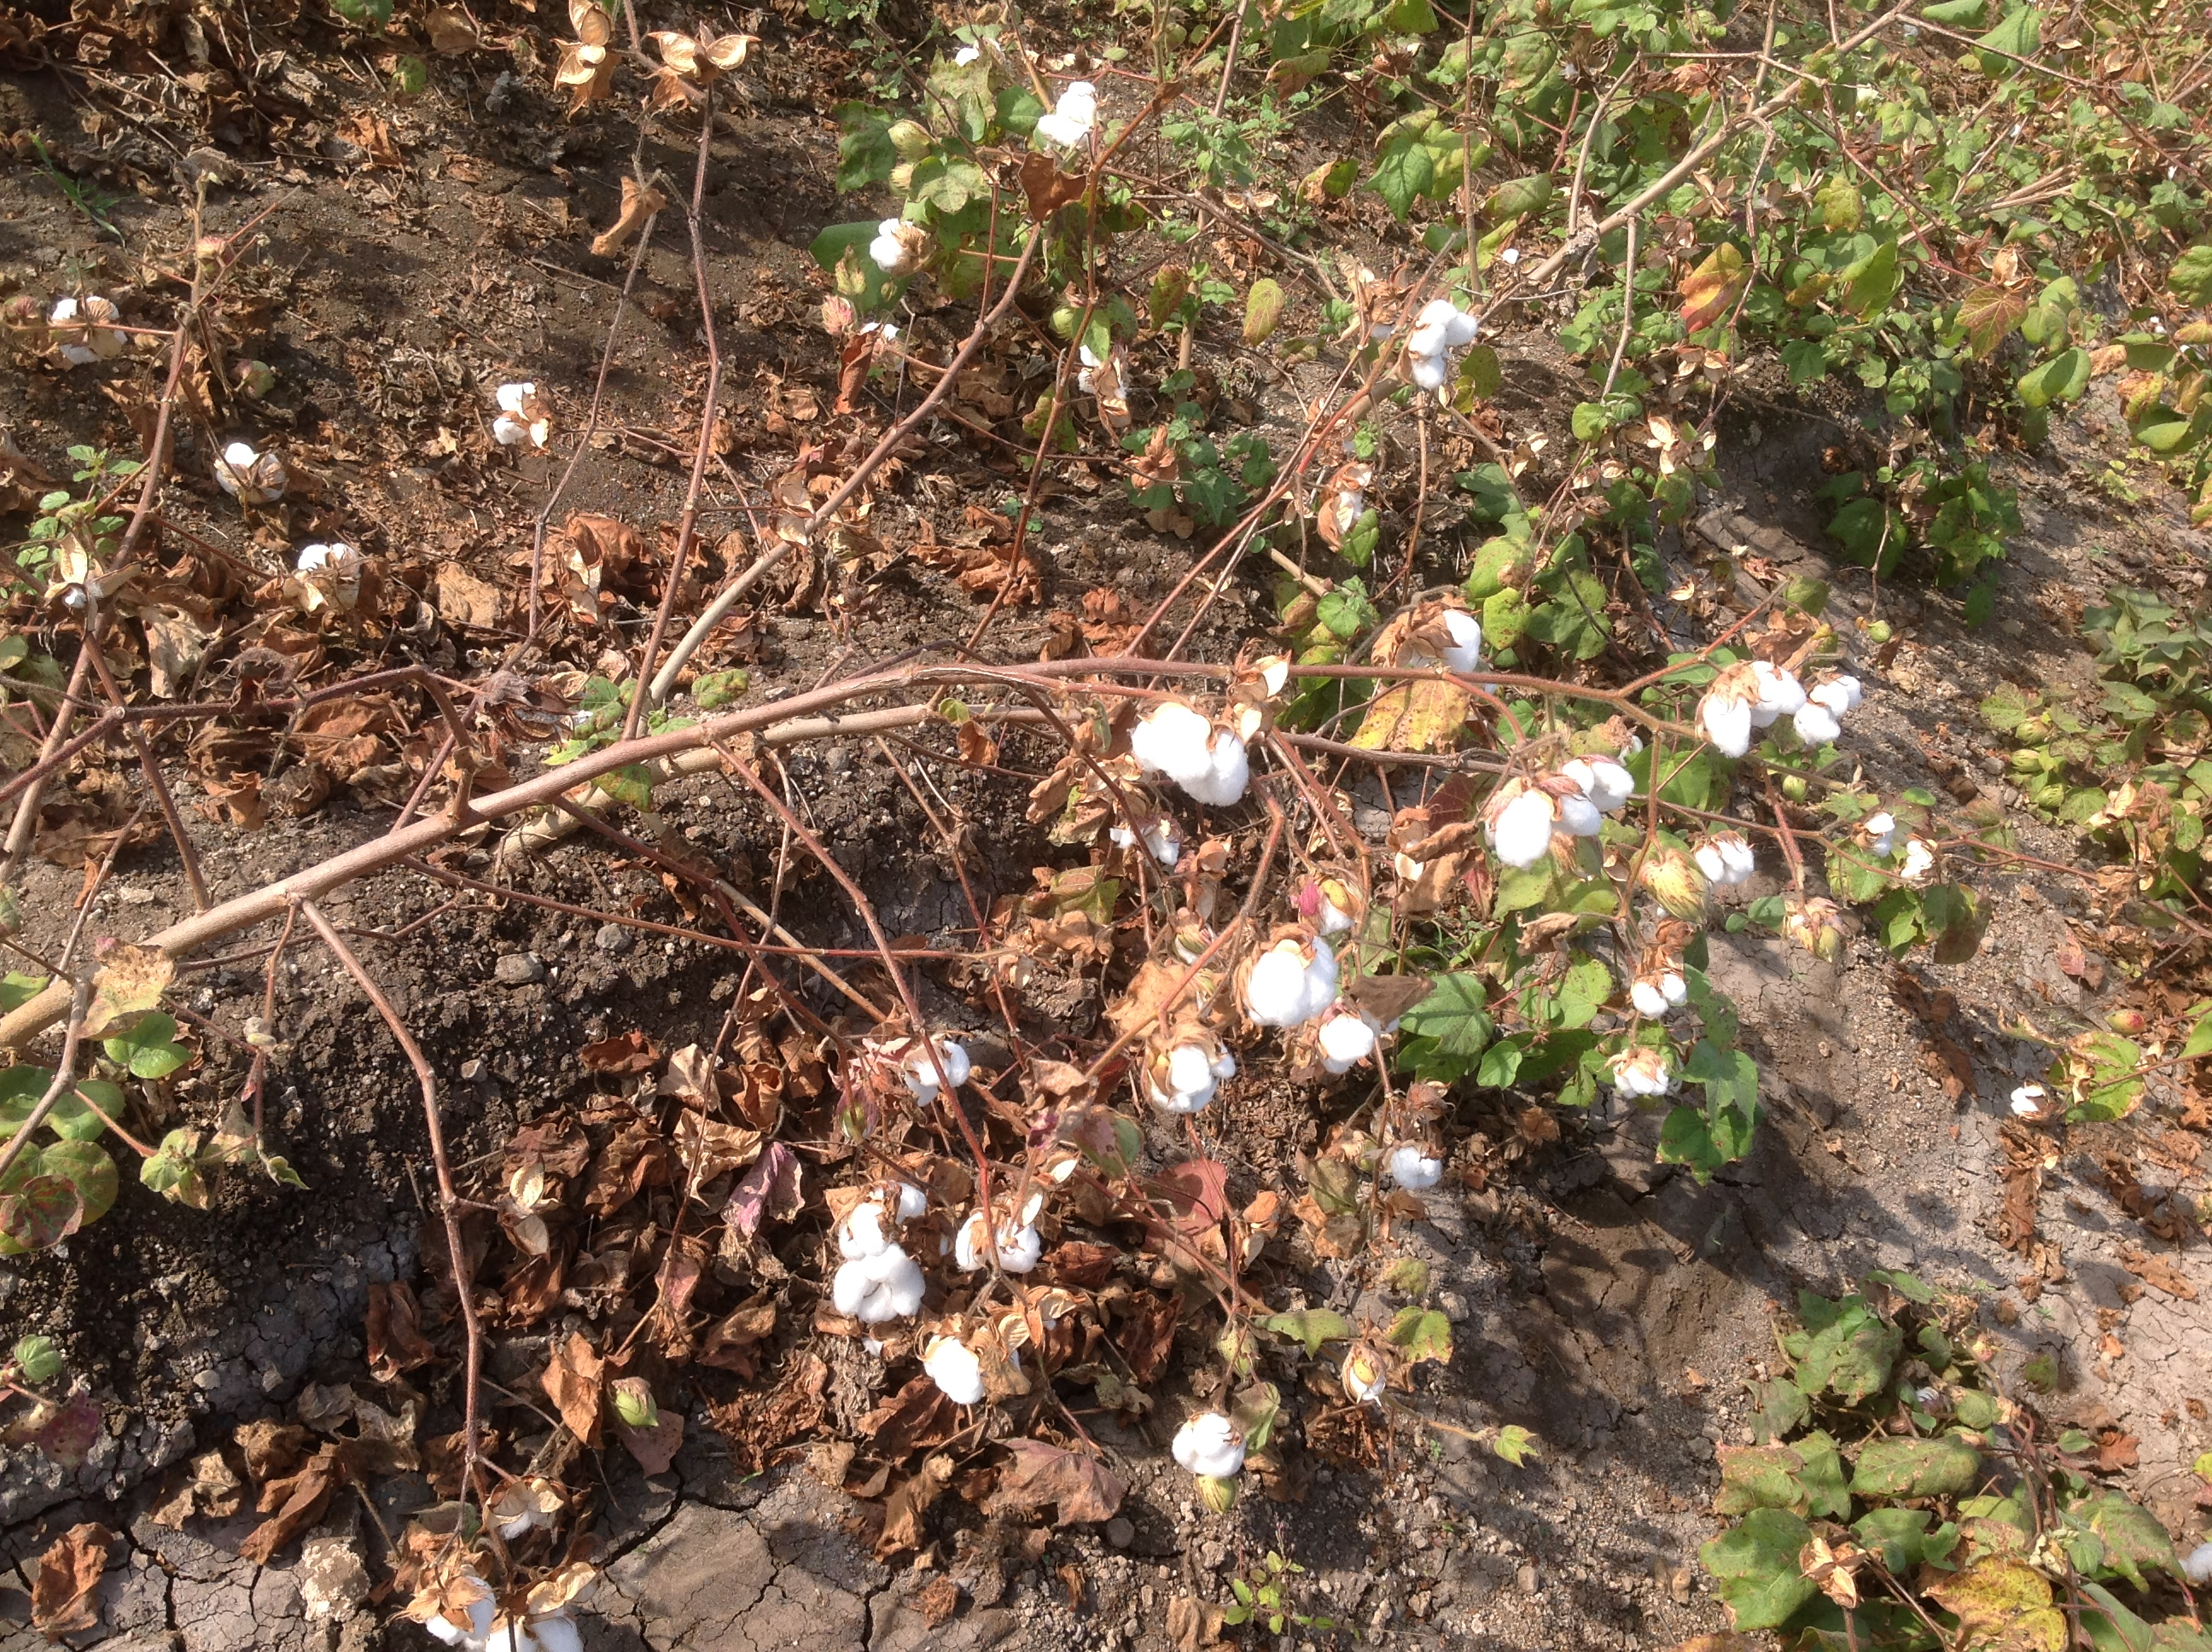cotton: (822, 1182, 940, 1333), (1478, 755, 1650, 854), (1369, 597, 1495, 727), (1122, 699, 1265, 807), (1223, 932, 1360, 1039), (1116, 1020, 1246, 1119), (916, 1307, 1032, 1404), (1698, 652, 1803, 755), (1782, 673, 1889, 767), (1339, 1123, 1468, 1197), (1407, 297, 1492, 401), (857, 208, 937, 312), (1310, 465, 1393, 564), (481, 1588, 602, 1649), (880, 1036, 968, 1119), (1671, 829, 1761, 911), (416, 1551, 501, 1636), (42, 295, 123, 380), (23, 538, 104, 621), (1022, 85, 1110, 161), (1161, 1404, 1251, 1478), (1619, 961, 1698, 1034), (1577, 1052, 1686, 1104), (274, 541, 364, 600), (488, 389, 559, 456), (217, 444, 285, 505)
